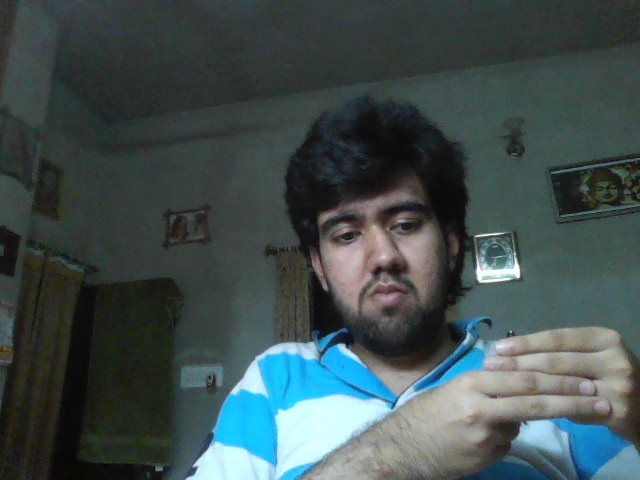Name: (395, 327, 640, 480)
